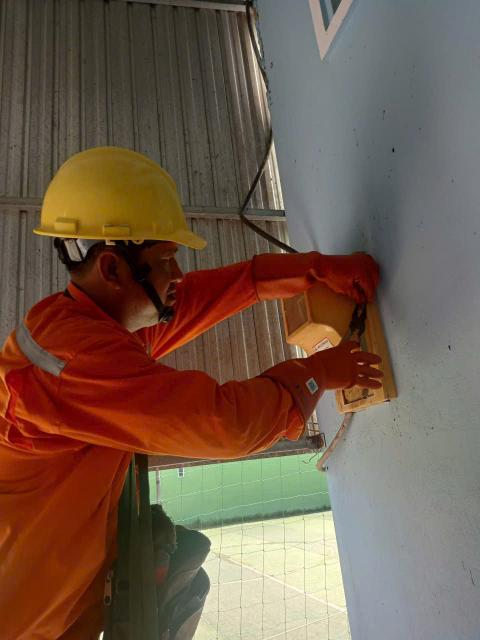gloves: (248, 233, 405, 319), (251, 334, 400, 419)
helmet: (33, 133, 212, 275)
